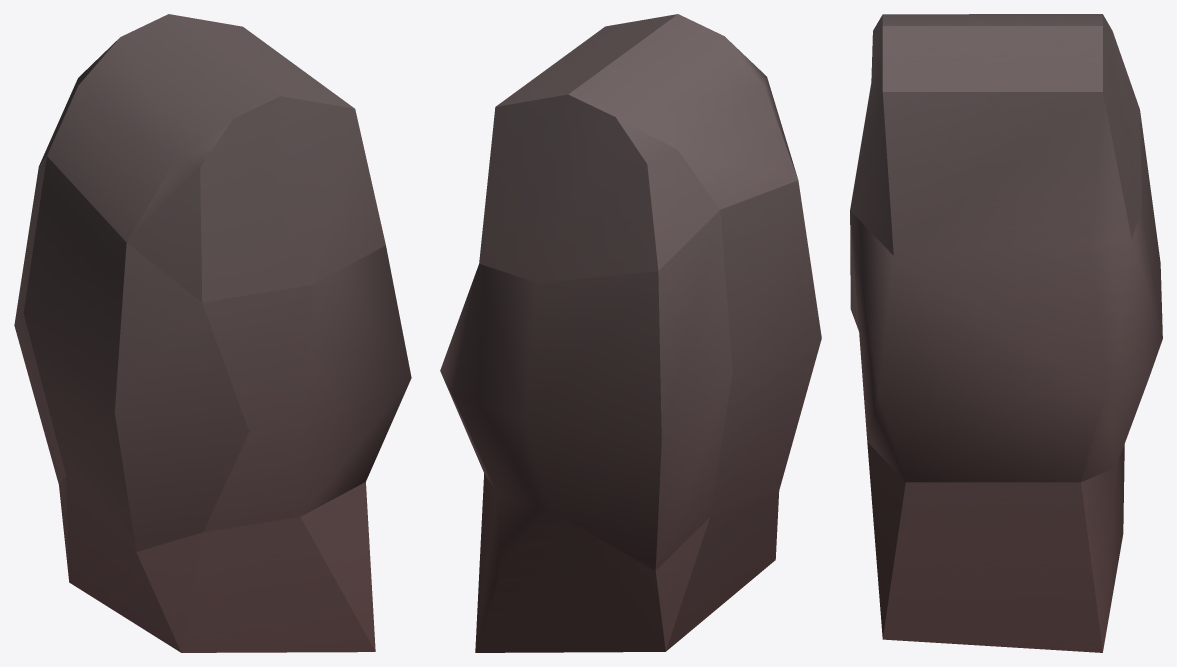
Rendered from ENV_Rock3.fbx.
The picture shows the model from 3 angles, left to right: view 1: azimuth 30°, elevation 25°; view 2: azimuth 150°, elevation 25°; view 3: azimuth 270°, elevation 25°; orthographic projection.
Parts seen in each view (by area): view 1: Rock3; view 2: Rock3; view 3: Rock3.
Boxes of the visible parts, x1=… form: Rock3: x1=14, y1=14, x2=411, y2=652; Rock3: x1=440, y1=14, x2=821, y2=652; Rock3: x1=850, y1=14, x2=1162, y2=652.
Size of the model in its own units: 46.39 by 92.11 by 44.91.
